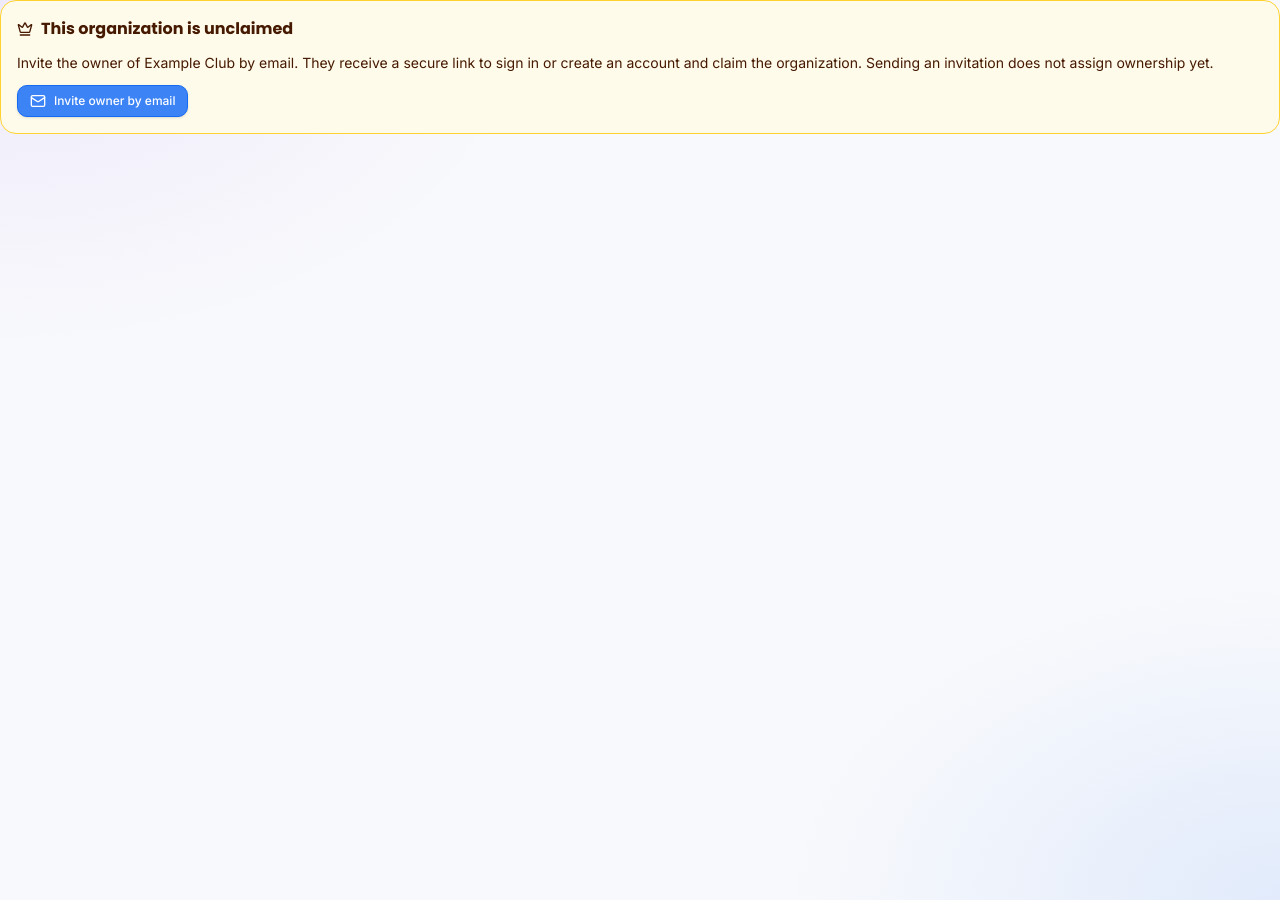
Scenario: organization owner email invitation › opens an email form and sends the existing secure owner invitation
Expected: the text "Sending an invitation does not assign ownership yet" is shown, [235,54,1214,71]
Step 1. Click the button with test id "btn-invite-org-owner" → coordinates (103, 101), box [17,85,188,117]
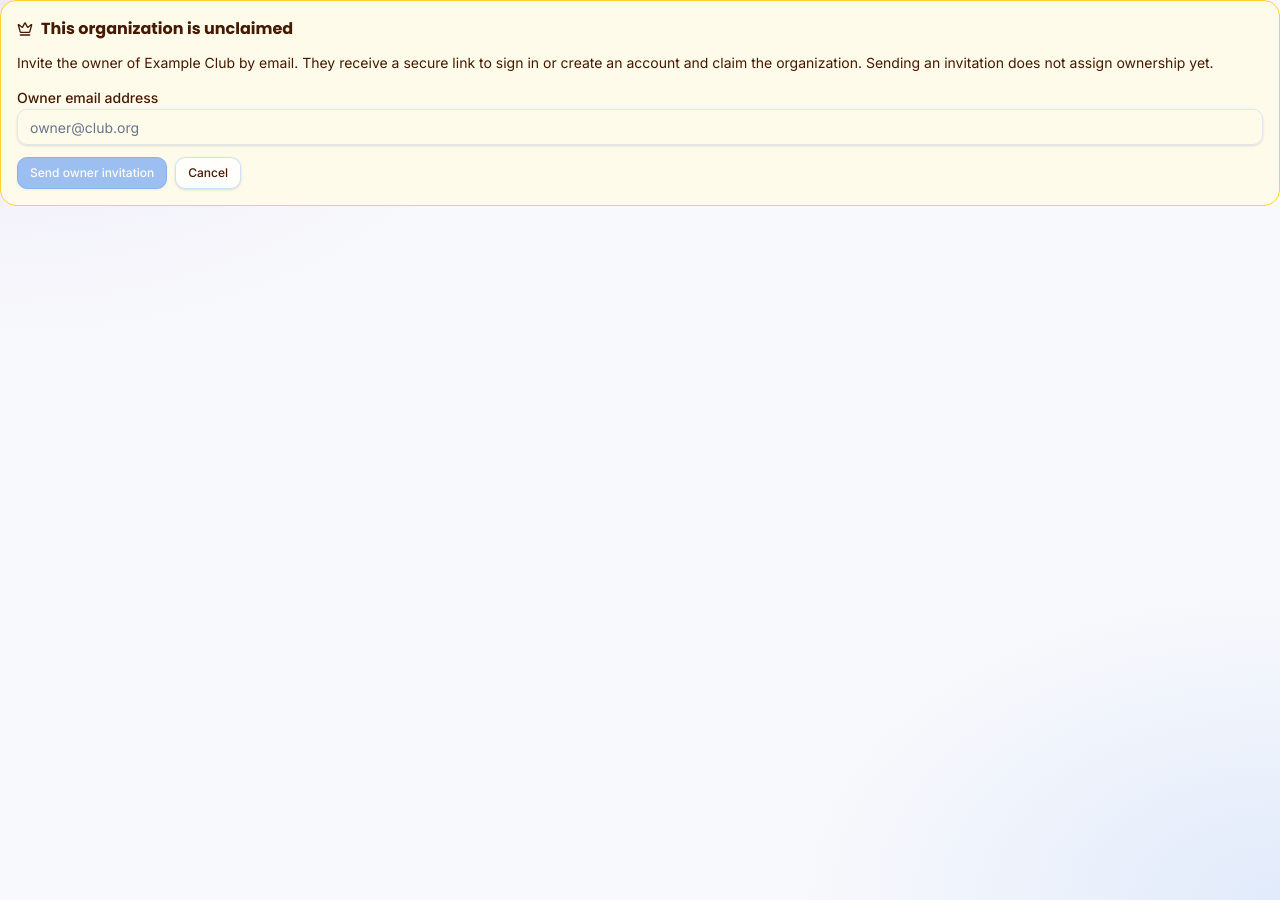
Expected: the button with test id "btn-send-org-owner-invite" is disabled, [17,157,167,189]
Step 2. Type "owner@club" into the field labelled "Owner email address" → coordinates (640, 127), box [17,109,1263,145]
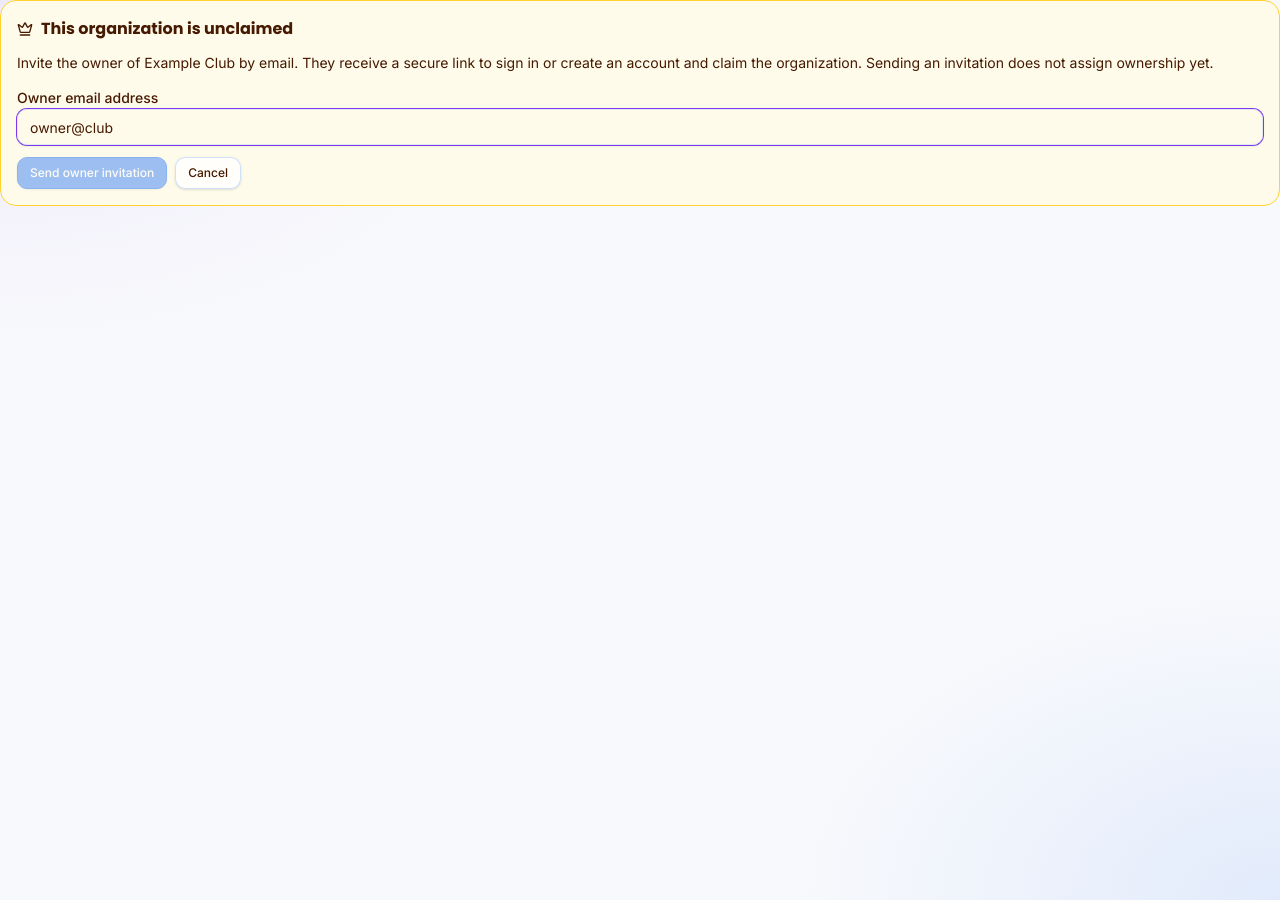
Expected: the button with test id "btn-send-org-owner-invite" is disabled, [17,157,167,189]
Step 3. Type ".org" into the field labelled "Owner email address" → coordinates (640, 127), box [17,109,1263,145]
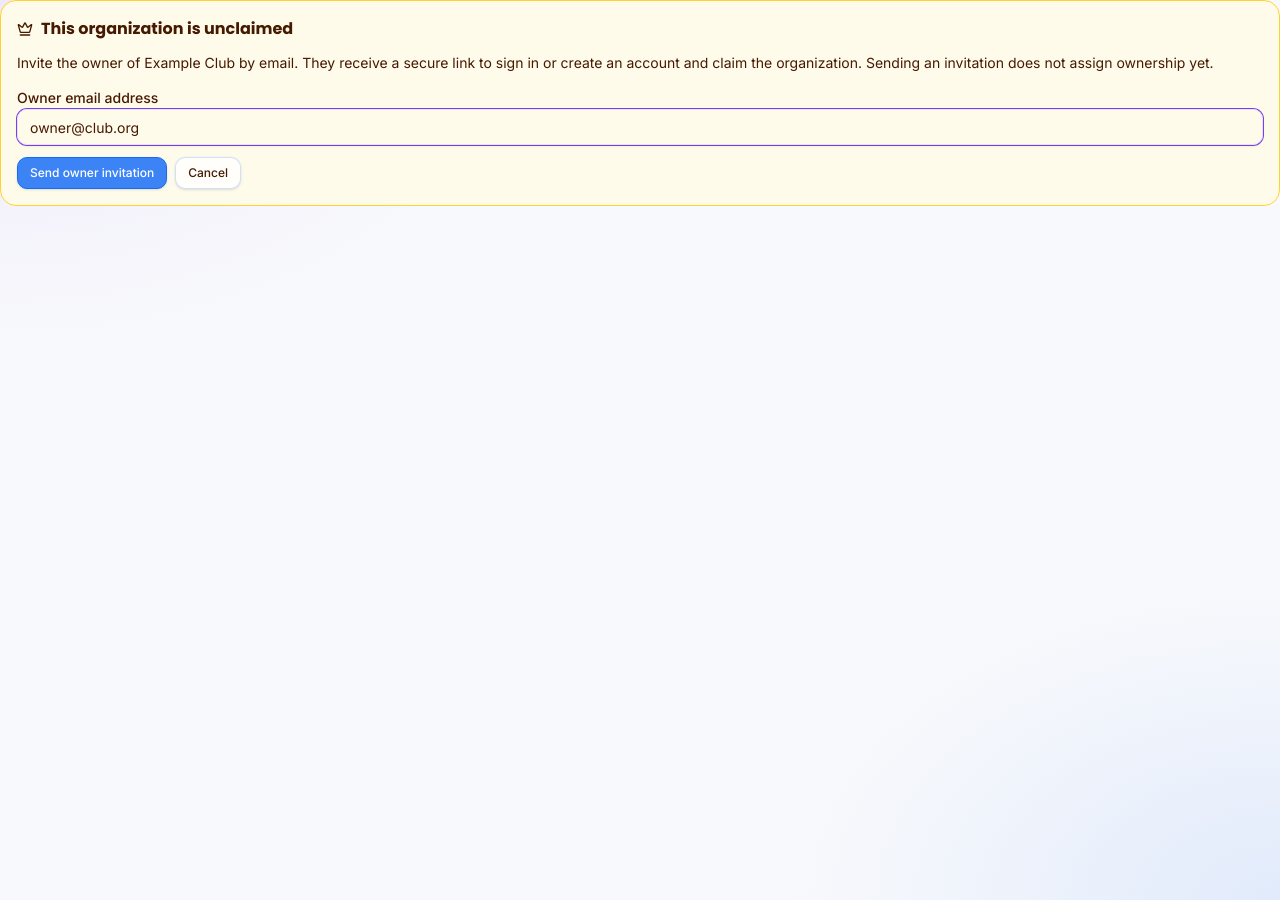
Step 4. Click the button with test id "btn-send-org-owner-invite" → coordinates (92, 173), box [17,157,167,189]
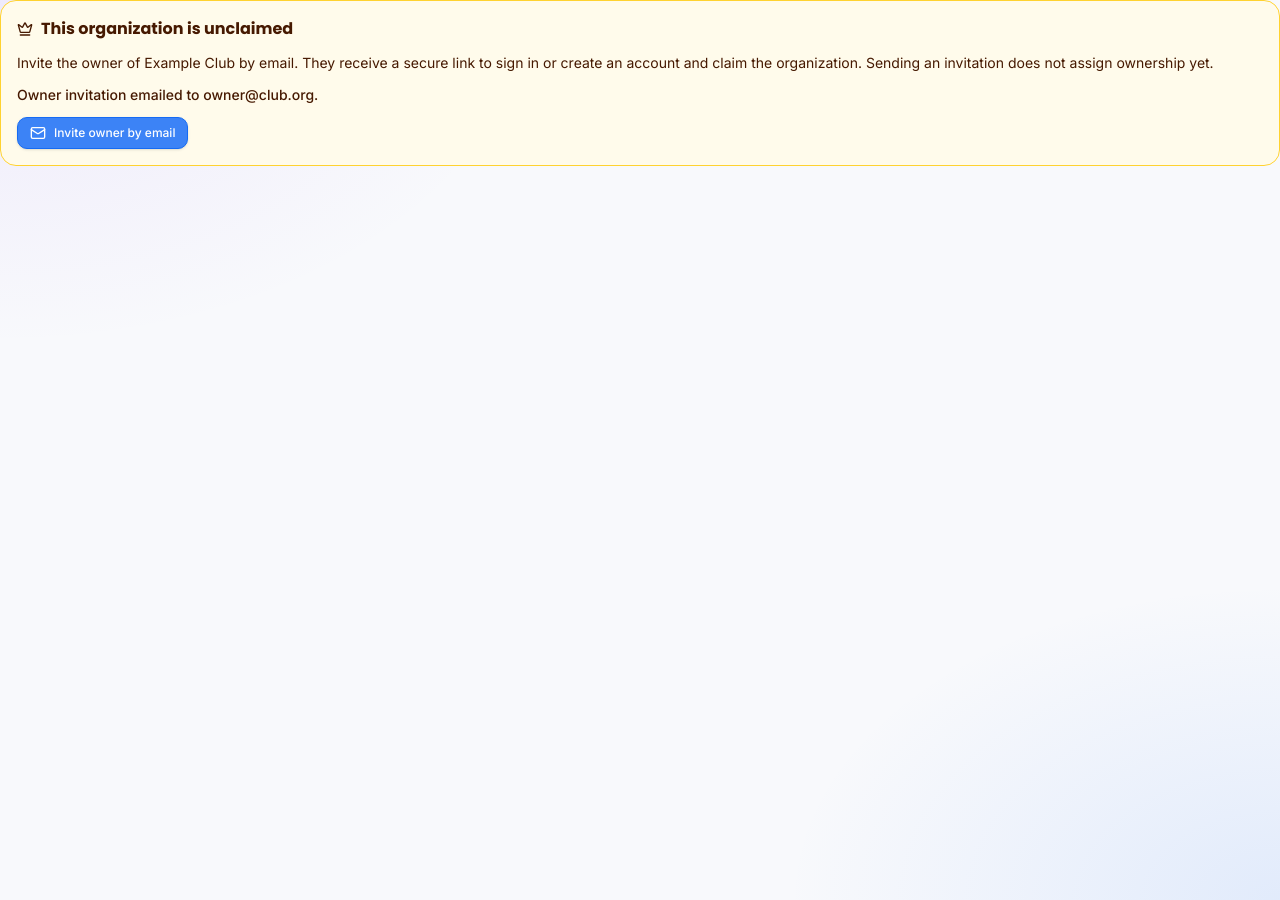
Expected: the message shows "Owner invitation emailed to owner@club.org", [17,86,318,103]
Expected: the label labelled "Owner email address" is gone
